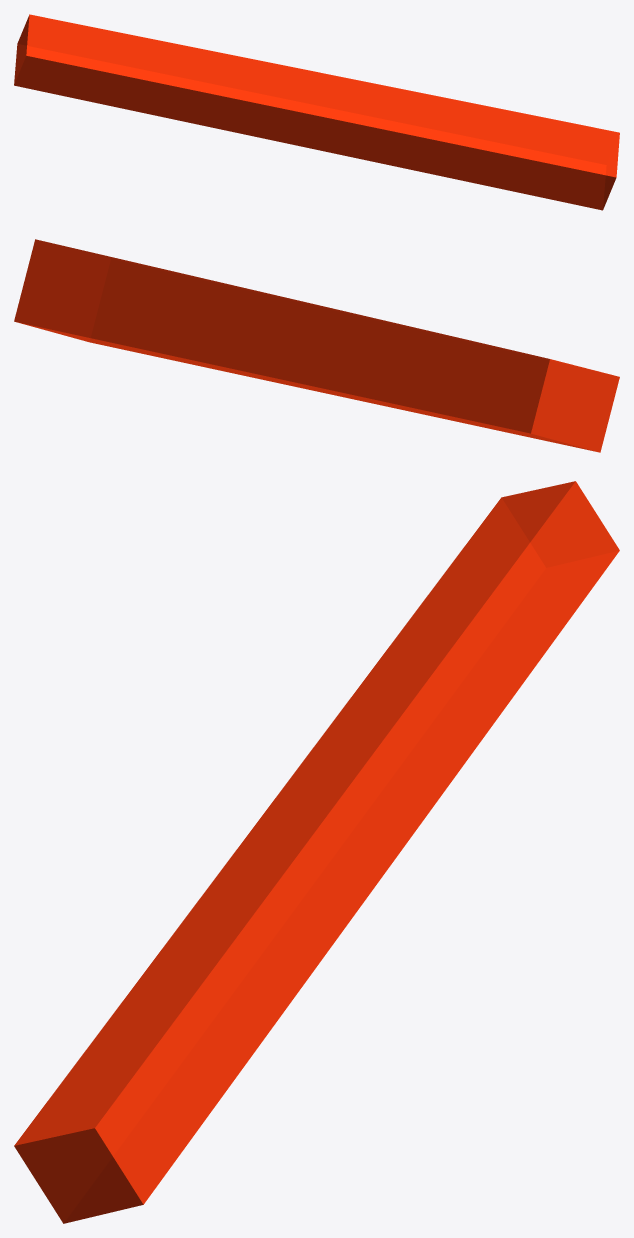
The model's file is Event_421278790_EBrechit_20.fbx.
3 renders of one model, top to bottom at view 1: azimuth 30°, elevation 25°; view 2: azimuth 150°, elevation 25°; view 3: azimuth 270°, elevation 25°, orthographic. The views are drawn at different scales.
Parts seen in each view (by area): view 1: Model; view 2: Model; view 3: Model.
Part boxes in pixels (box(x1,y1,x2,y2)): Model: box(14, 14, 619, 210); Model: box(14, 239, 619, 452); Model: box(14, 481, 619, 1223).
Bounding box in the file's own units: 0.6317 × 0.2485 × 0.3792.
